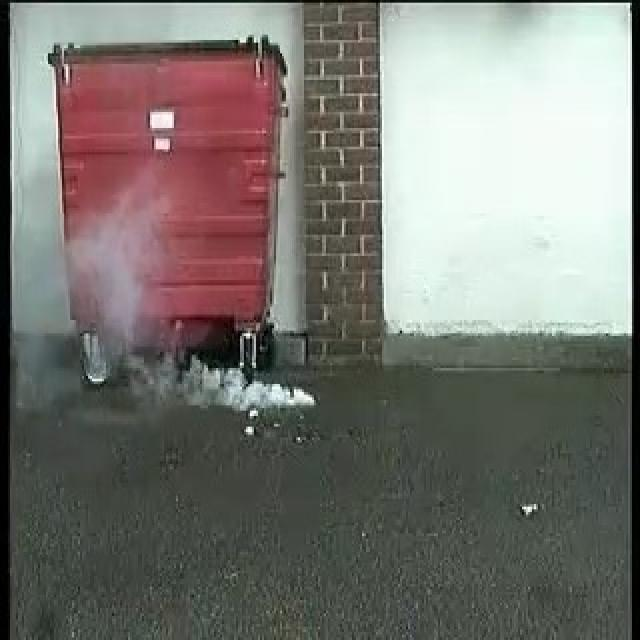smoke: (136, 353, 312, 411)
